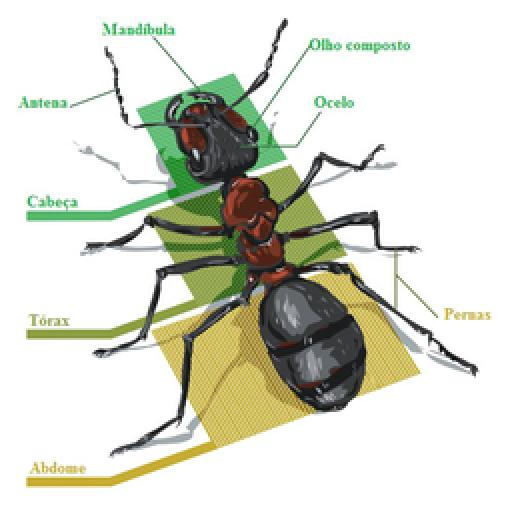insects: (72, 23, 478, 456)
